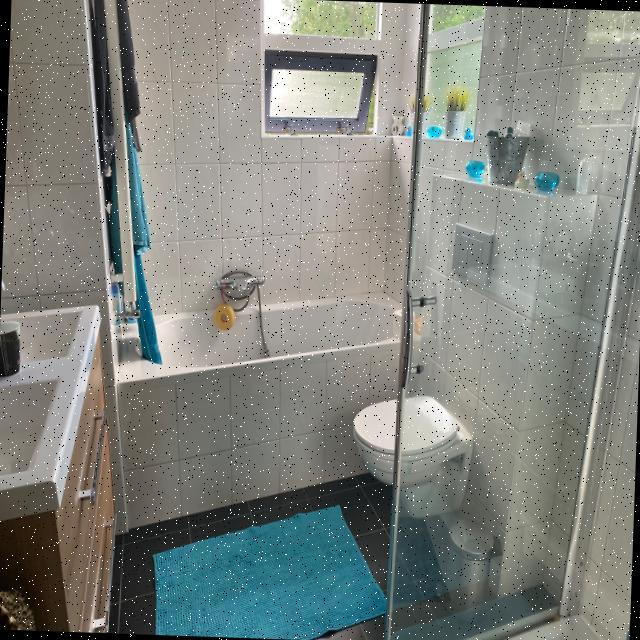bath: (112, 262, 422, 540)
douche: (379, 3, 640, 640)
toilet: (347, 387, 475, 532)
wastafel: (0, 311, 125, 633), (0, 299, 102, 527)
